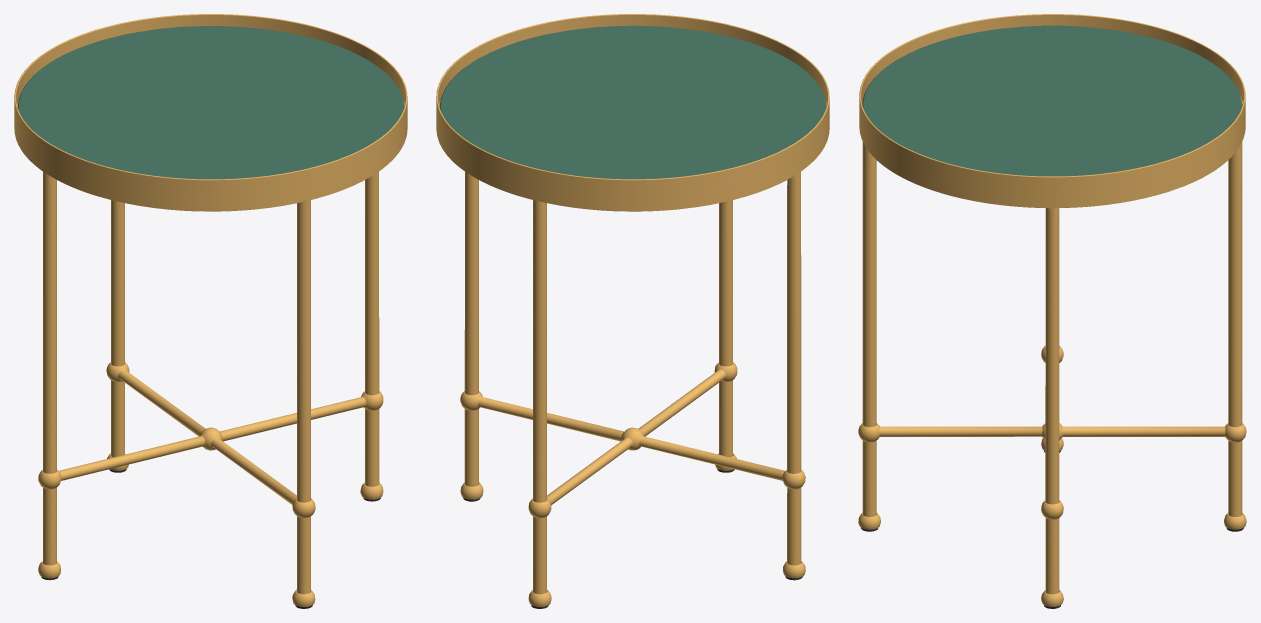
3 views of the same model, side by side, from view 1: azimuth 30°, elevation 25°; view 2: azimuth 150°, elevation 25°; view 3: azimuth 270°, elevation 25° (orthographic).
Parts seen in each view (by area): view 1: ASY_ART_60590415_S01_NV01, ASY_LPT09_60590415_S01_NV01, ASY_LPT05_60590415_S01_NV01, ASY_LPT06_60590415_S01_NV01, ASY_LPT08_60590415_S01_NV01, ASY_LPT07_60590415_S01_NV01, ASY_LPT04_60590415_S01_NV01, ASY_LPT02_60590415_S01_NV01, ASY_LPT01_60590415_S01_NV01, ASY_LPT03_60590415_S01_NV01; view 2: ASY_ART_60590415_S01_NV01, ASY_LPT09_60590415_S01_NV01, ASY_LPT06_60590415_S01_NV01, ASY_LPT07_60590415_S01_NV01, ASY_LPT08_60590415_S01_NV01, ASY_LPT05_60590415_S01_NV01, ASY_LPT02_60590415_S01_NV01, ASY_LPT04_60590415_S01_NV01, ASY_LPT03_60590415_S01_NV01, ASY_LPT01_60590415_S01_NV01; view 3: ASY_ART_60590415_S01_NV01, ASY_LPT09_60590415_S01_NV01, ASY_LPT08_60590415_S01_NV01, ASY_LPT07_60590415_S01_NV01, ASY_LPT05_60590415_S01_NV01, ASY_LPT04_60590415_S01_NV01, ASY_LPT01_60590415_S01_NV01, ASY_LPT03_60590415_S01_NV01.
Boxes of the visible parts, x1=… form: ASY_ART_60590415_S01_NV01: x1=17, y1=26, x2=404, y2=608; ASY_LPT09_60590415_S01_NV01: x1=14, y1=14, x2=407, y2=211; ASY_LPT05_60590415_S01_NV01: x1=297, y1=200, x2=310, y2=502; ASY_LPT06_60590415_S01_NV01: x1=43, y1=172, x2=56, y2=473; ASY_LPT08_60590415_S01_NV01: x1=365, y1=172, x2=379, y2=395; ASY_LPT07_60590415_S01_NV01: x1=111, y1=200, x2=124, y2=366; ASY_LPT04_60590415_S01_NV01: x1=365, y1=409, x2=379, y2=486; ASY_LPT02_60590415_S01_NV01: x1=43, y1=487, x2=56, y2=565; ASY_LPT01_60590415_S01_NV01: x1=297, y1=516, x2=310, y2=594; ASY_LPT03_60590415_S01_NV01: x1=111, y1=380, x2=124, y2=457; ASY_ART_60590415_S01_NV01: x1=439, y1=25, x2=826, y2=608; ASY_LPT09_60590415_S01_NV01: x1=436, y1=14, x2=829, y2=211; ASY_LPT06_60590415_S01_NV01: x1=787, y1=172, x2=801, y2=473; ASY_LPT07_60590415_S01_NV01: x1=533, y1=200, x2=546, y2=502; ASY_LPT08_60590415_S01_NV01: x1=464, y1=172, x2=478, y2=395; ASY_LPT05_60590415_S01_NV01: x1=719, y1=200, x2=732, y2=366; ASY_LPT02_60590415_S01_NV01: x1=787, y1=487, x2=801, y2=565; ASY_LPT04_60590415_S01_NV01: x1=464, y1=409, x2=478, y2=486; ASY_LPT03_60590415_S01_NV01: x1=533, y1=516, x2=546, y2=594; ASY_LPT01_60590415_S01_NV01: x1=719, y1=380, x2=732, y2=457; ASY_ART_60590415_S01_NV01: x1=858, y1=25, x2=1246, y2=608; ASY_LPT09_60590415_S01_NV01: x1=859, y1=14, x2=1245, y2=208; ASY_LPT08_60590415_S01_NV01: x1=1045, y1=208, x2=1059, y2=504; ASY_LPT07_60590415_S01_NV01: x1=1228, y1=142, x2=1242, y2=427; ASY_LPT05_60590415_S01_NV01: x1=862, y1=142, x2=876, y2=427; ASY_LPT04_60590415_S01_NV01: x1=1045, y1=518, x2=1059, y2=594; ASY_LPT01_60590415_S01_NV01: x1=862, y1=440, x2=876, y2=516; ASY_LPT03_60590415_S01_NV01: x1=1228, y1=441, x2=1242, y2=516.
Bounding box in the file's own units: 0.4504 × 0.5537 × 0.4503.
Materials: 11 (11 with a texture image).
